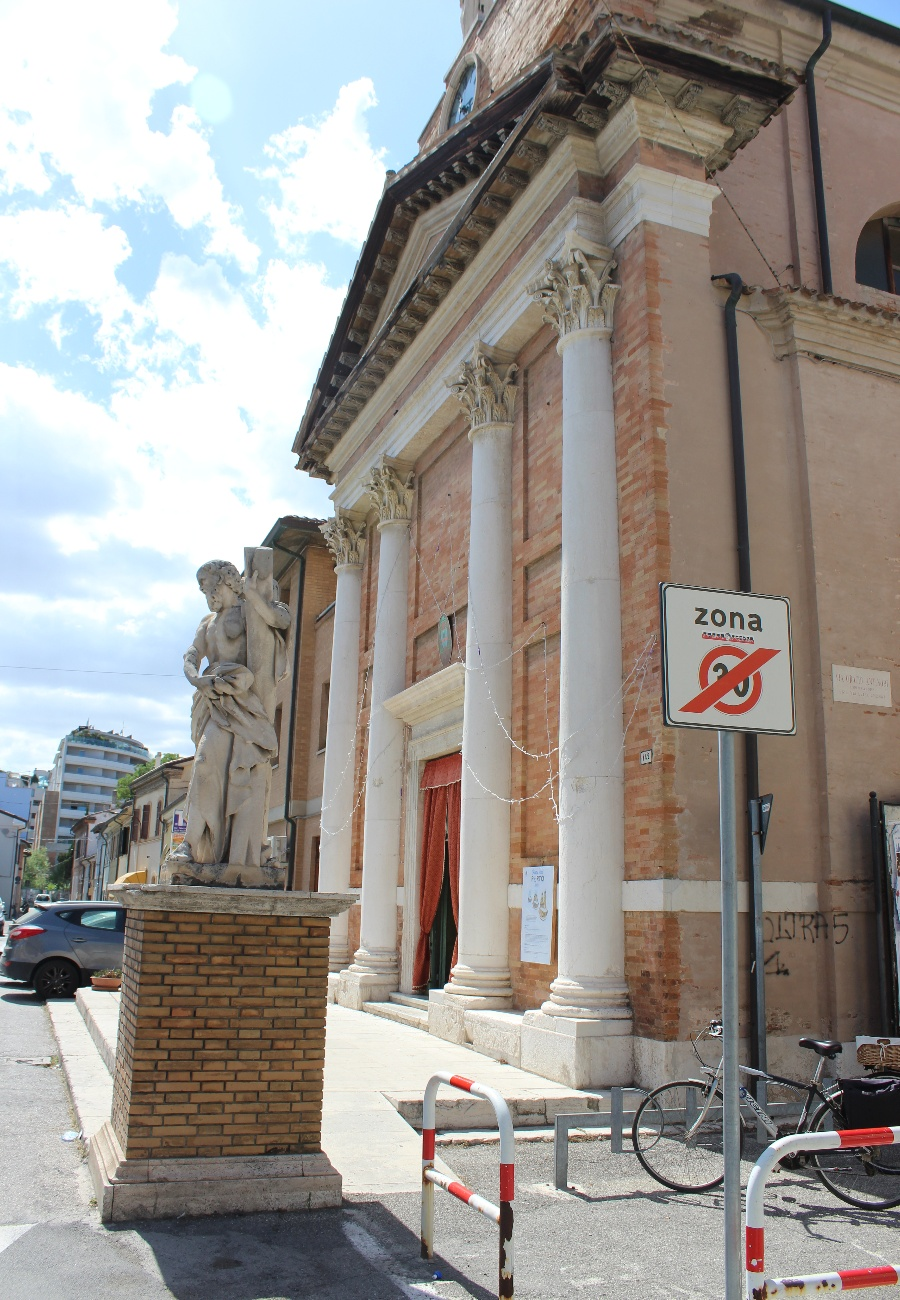Parrocchia Santa Maria: (178, 75, 645, 1079)
